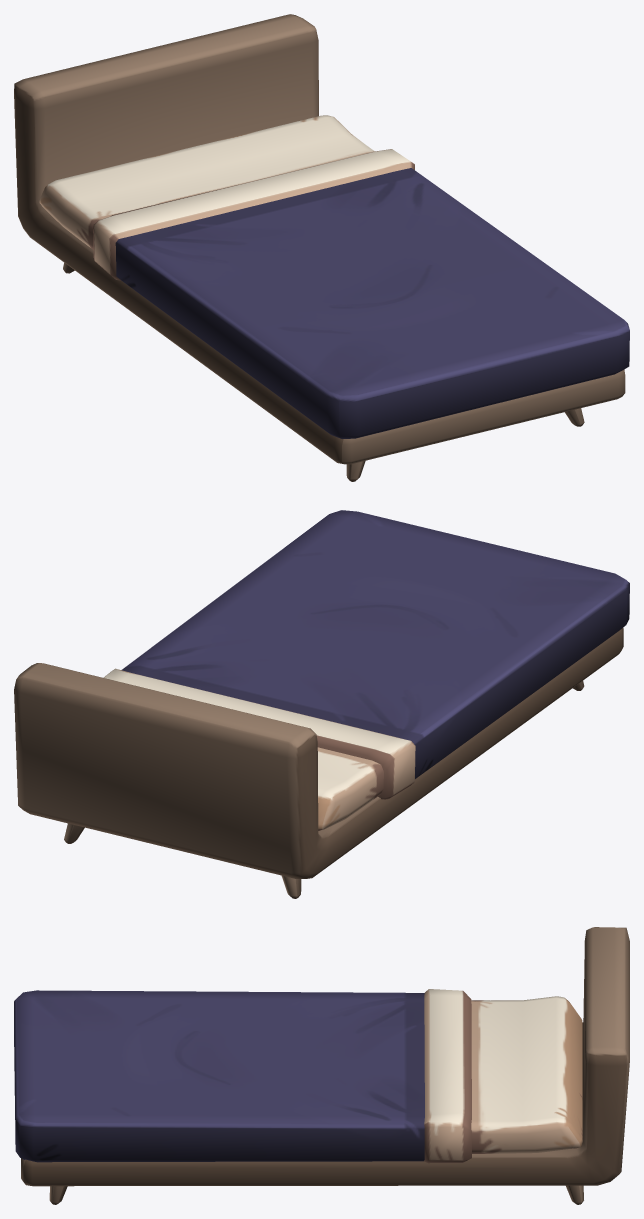
File: housepack_bed_3.FBX
The picture shows the model from 3 angles, top to bottom: view 1: azimuth 30°, elevation 25°; view 2: azimuth 150°, elevation 25°; view 3: azimuth 270°, elevation 25°; orthographic projection. The views are drawn at different scales.
Visible parts, largest first — view 1: housepack_bed_3; view 2: housepack_bed_3; view 3: housepack_bed_3.
Boxes of the visible parts, bbox=[...] form: housepack_bed_3: bbox=[14, 14, 629, 481]; housepack_bed_3: bbox=[14, 510, 629, 898]; housepack_bed_3: bbox=[14, 927, 629, 1204].
Bounding box in the file's own units: 76.71 × 43.38 × 146.
